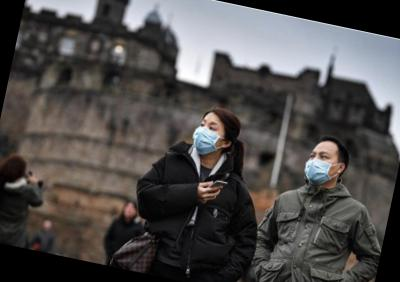with_mask: (301, 145, 341, 189), (189, 116, 226, 158)
without_mask: (122, 199, 139, 219)
